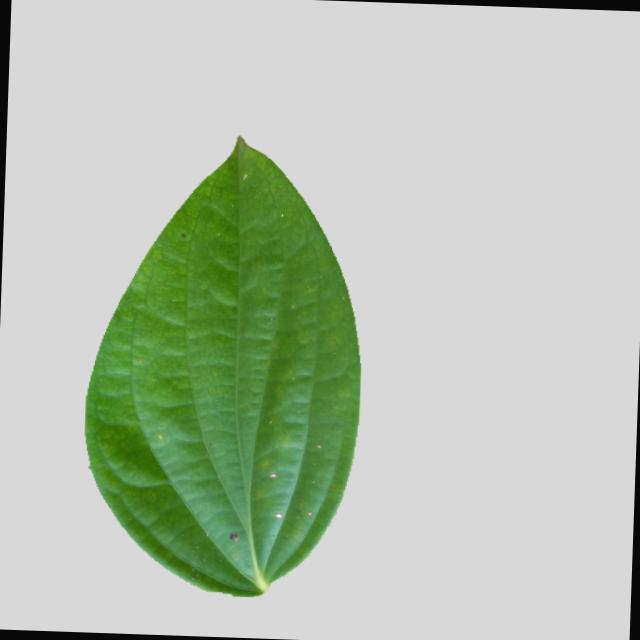healthy: (73, 121, 376, 608)
